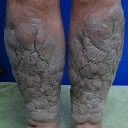Keloids: (7, 28, 58, 107), (74, 36, 107, 111)
